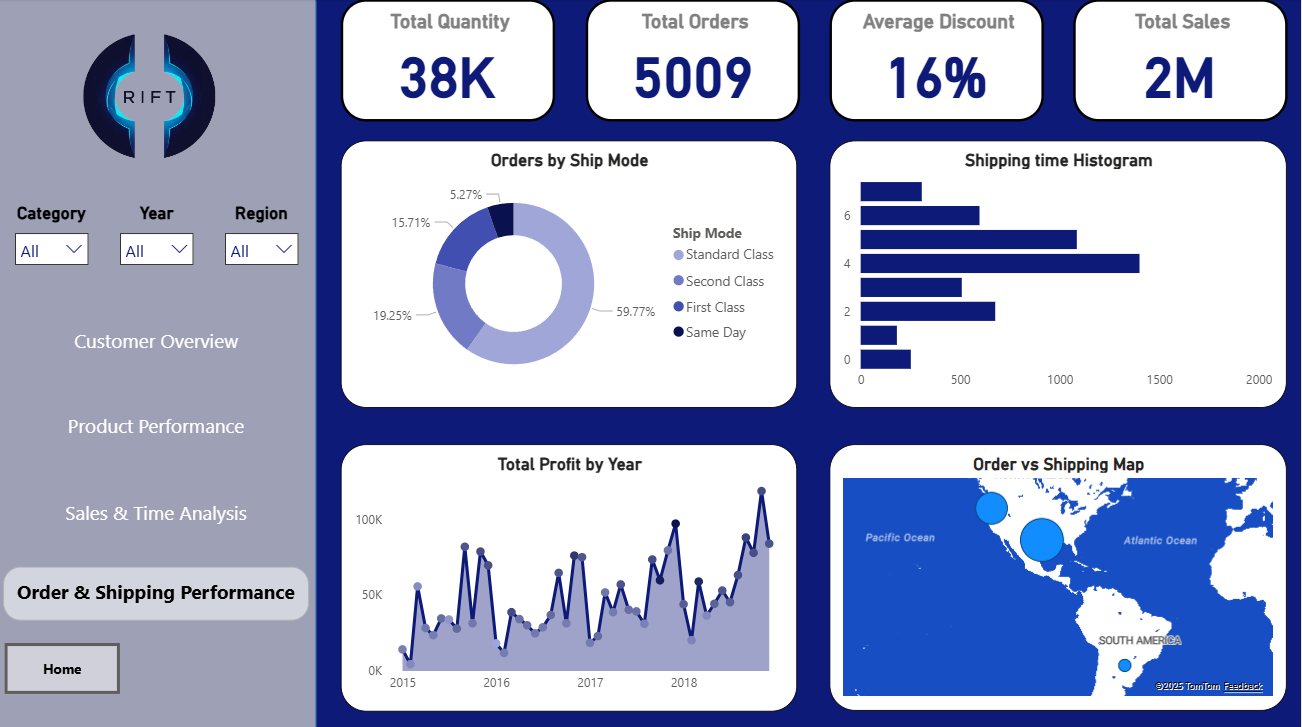

This screenshot's page, from the dashboard's own definition file:
{"tool":"powerbi","page":{"name":"Orders & Shipping Performance","canvas":[1280,720],"ordinal":4},"visuals":[{"type":"shape","box":[0,0,313.8,720],"z":0},{"type":"card","title":"Total Quantity","fields":{"Values":["DAX_Table.Total_QTY"]},"box":[338,1.4,210,120],"z":1000},{"type":"card","title":"Total Orders","fields":{"Values":["DAX_Table.Total_Order"]},"box":[577.6,1.4,210,120],"z":2000},{"type":"card","title":"Average Discount","fields":{"Values":["DAX_Table.AVG_Discount"]},"box":[817.1,1.4,210,120],"z":3000},{"type":"card","title":"Total Sales","fields":{"Values":["DAX_Table.Total_Sales"]},"box":[1056.7,1.4,210,120],"z":4000},{"type":"slicer","title":"Year","fields":{"Values":["DateDim.Order Date.Variation.Date Hierarchy.Year"]},"box":[110.5,201.6,92.6,63.2],"z":5000},{"type":"slicer","title":"Category","fields":{"Values":["ProductDim.Category"]},"box":[7.9,201.6,92.1,63.7],"z":6000},{"type":"slicer","title":"Region","fields":{"Values":["CustomerDim.Region"]},"box":[213.7,201.6,92.1,63.2],"z":7000},{"type":"image","box":[18.6,0,262.9,191.4],"z":8000},{"type":"actionButton","box":[7.8,633.3,113.3,50],"z":9000},{"type":"textbox","box":[6.2,318.8,300,52.5],"z":10000},{"type":"textbox","box":[6.2,402.5,300,52.5],"z":11000},{"type":"textbox","box":[6.2,487.5,300,52.5],"z":12000},{"type":"textbox","box":[6.2,558.8,300,52.5],"z":13000},{"type":"barChart","title":"Shipping time Histogram","fields":{"Category":["Sales.Shipping Days"],"Y":["DAX_Table.Total_Order"]},"box":[817.5,140,448.8,262.5],"z":14000},{"type":"azureMap","title":"Order vs Shipping Map","fields":{"Size":["DAX_Table.Total_Order"],"Category":["CustomerDim.Region"]},"box":[817.1,438.6,448.6,261.4],"z":15000},{"type":"donutChart","title":"Orders by Ship Mode","fields":{"Category":["Sales.Ship Mode"],"Y":["DAX_Table.Total_Order"]},"box":[337.5,140,448,262.5],"z":16000},{"type":"lineChart","title":"Total Profit by Year","fields":{"Y":["DAX_Table.Total_Sales"],"Category":["DateDim.Order Date.Variation.Date Hierarchy.Year","DateDim.Order Date.Variation.Date Hierarchy.Quarter","DateDim.Order Date.Variation.Date Hierarchy.Month","DateDim.Order Date.Variation.Date Hierarchy.Day"]},"box":[337.1,438.6,448,262],"z":17000},{"type":"actionButton","box":[5.7,320,300,51.4],"z":18000},{"type":"actionButton","box":[7.1,402.9,298.6,52.9],"z":19000},{"type":"actionButton","box":[8.6,487.1,297.1,52.9],"z":20000}]}

Visuals, with their boxes in screenshot pixels (x1, y1, x2, y2), scaled from the page's 1280x720 canvas onto the 1302x727 screenshot:
shape: detection(0, 0, 319, 726)
"Total Quantity" card: detection(344, 1, 557, 123)
"Total Orders" card: detection(588, 1, 801, 123)
"Average Discount" card: detection(831, 1, 1045, 123)
"Total Sales" card: detection(1075, 1, 1288, 123)
"Year" slicer: detection(112, 204, 207, 267)
"Category" slicer: detection(8, 204, 102, 268)
"Region" slicer: detection(217, 204, 311, 267)
image: detection(19, 0, 286, 193)
actionButton: detection(8, 639, 123, 690)
textbox: detection(6, 322, 311, 375)
textbox: detection(6, 406, 311, 459)
textbox: detection(6, 492, 311, 545)
textbox: detection(6, 564, 311, 617)
"Shipping time Histogram" barChart: detection(832, 141, 1288, 406)
"Order vs Shipping Map" azureMap: detection(831, 443, 1287, 707)
"Orders by Ship Mode" donutChart: detection(343, 141, 799, 406)
"Total Profit by Year" lineChart: detection(343, 443, 799, 707)
actionButton: detection(6, 323, 311, 375)
actionButton: detection(7, 407, 311, 460)
actionButton: detection(9, 492, 311, 545)
